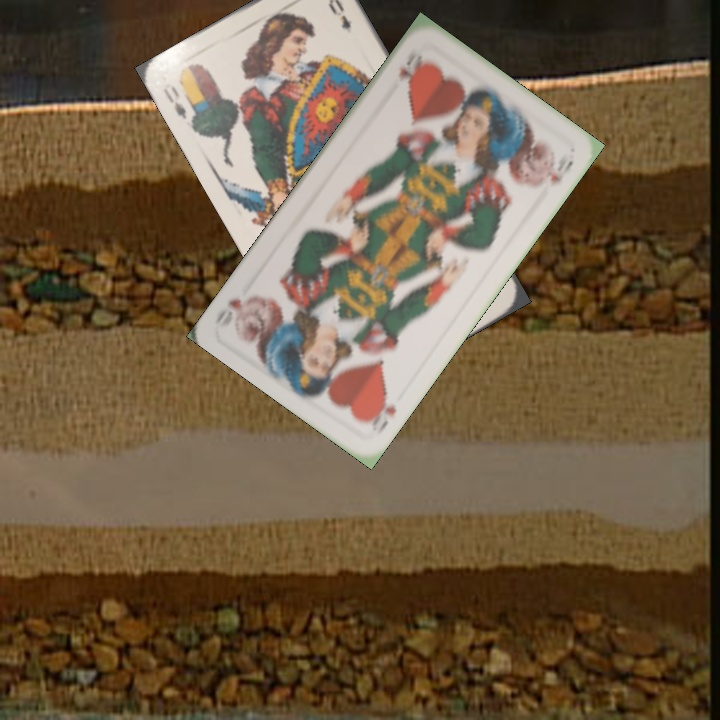EO: (159, 79, 190, 122)
HO: (362, 388, 400, 438), (394, 44, 425, 86)
